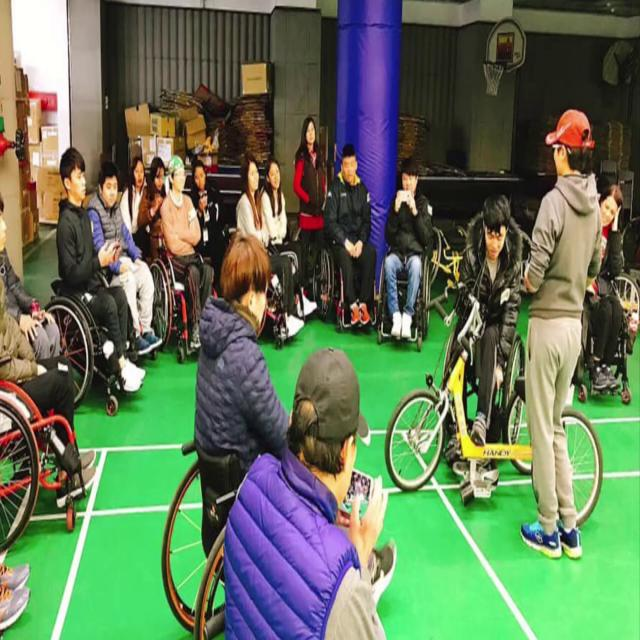wheelchairs: (138, 414, 354, 640), (441, 228, 534, 493), (41, 218, 152, 417), (0, 344, 104, 548), (142, 220, 233, 364), (367, 214, 444, 360), (573, 227, 633, 402), (315, 199, 383, 337)
